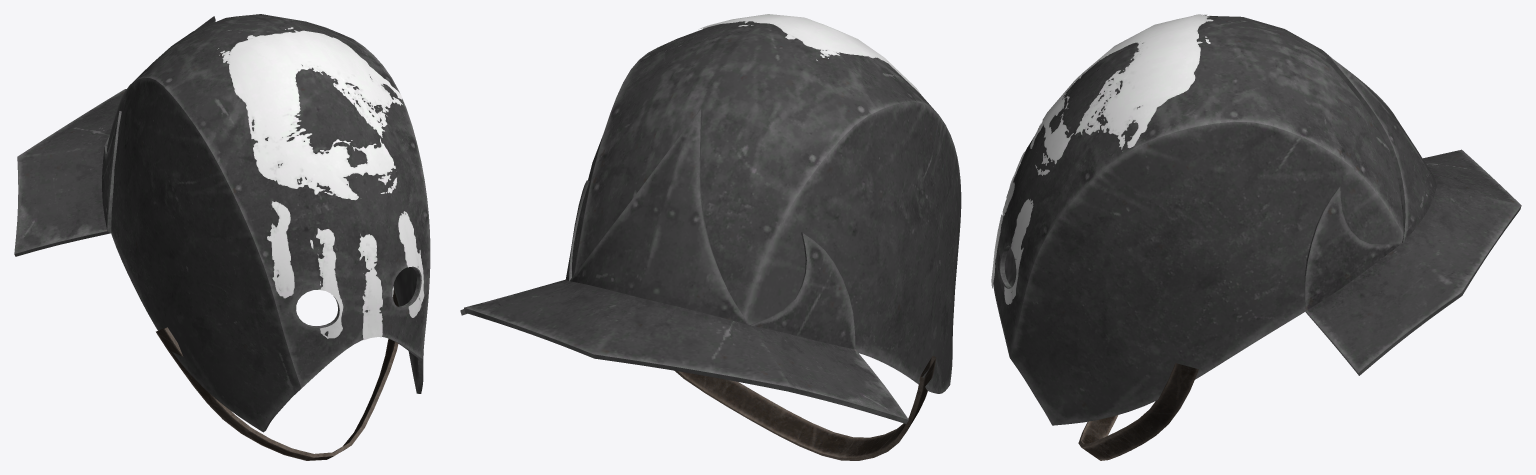
Rendered from sk_uruk_hai_helmet_nazg_a1.fbx.
The picture shows the model from 3 angles, left to right: view 1: azimuth 30°, elevation 25°; view 2: azimuth 150°, elevation 25°; view 3: azimuth 270°, elevation 25°; orthographic projection. The views are drawn at different scales.
Visible parts, largest first — view 1: sk_uruk_hai_helmet_nazg_a1.0, sk_uruk_hai_helmet_nazg_a1.1, sk_uruk_hai_helmet_nazg_a1.2; view 2: sk_uruk_hai_helmet_nazg_a1.0, sk_uruk_hai_helmet_nazg_a1.2, sk_uruk_hai_helmet_nazg_a1.1; view 3: sk_uruk_hai_helmet_nazg_a1.0, sk_uruk_hai_helmet_nazg_a1.1, sk_uruk_hai_helmet_nazg_a1.2.
Boxes of the visible parts, x1,y1,x2,y2 form: sk_uruk_hai_helmet_nazg_a1.0: [14, 14, 430, 432]; sk_uruk_hai_helmet_nazg_a1.1: [217, 27, 424, 339]; sk_uruk_hai_helmet_nazg_a1.2: [156, 289, 398, 460]; sk_uruk_hai_helmet_nazg_a1.0: [460, 21, 961, 423]; sk_uruk_hai_helmet_nazg_a1.2: [674, 356, 936, 460]; sk_uruk_hai_helmet_nazg_a1.1: [698, 14, 919, 93]; sk_uruk_hai_helmet_nazg_a1.0: [993, 15, 1521, 425]; sk_uruk_hai_helmet_nazg_a1.1: [991, 14, 1213, 304]; sk_uruk_hai_helmet_nazg_a1.2: [1078, 363, 1198, 460].
Bounding box in the file's own units: 0.2893 × 0.3298 × 0.2926.
3 materials, 3 textured.
